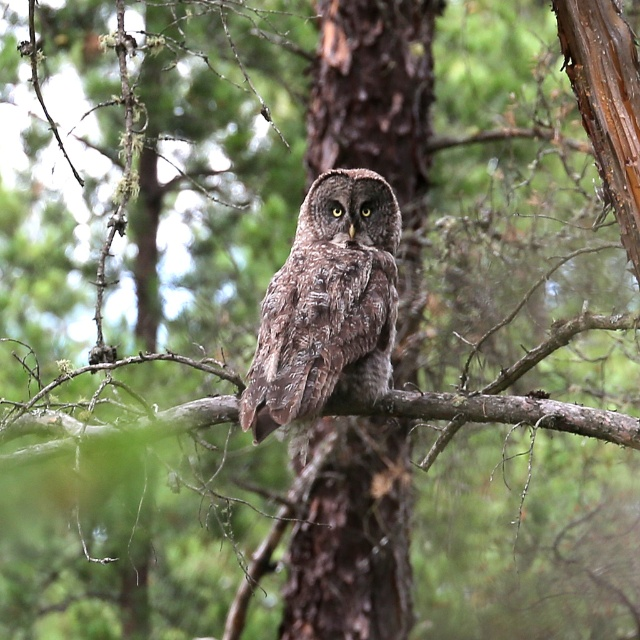Owl: (236, 166, 404, 447)
